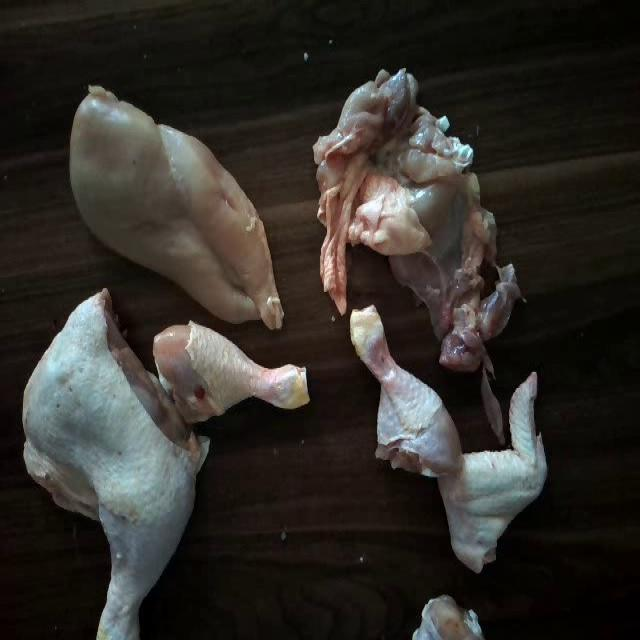breast: (61, 89, 282, 321)
leg: (340, 311, 458, 478)
quater: (25, 324, 174, 636)
thigh: (157, 320, 310, 427)
wing: (443, 373, 546, 565)
